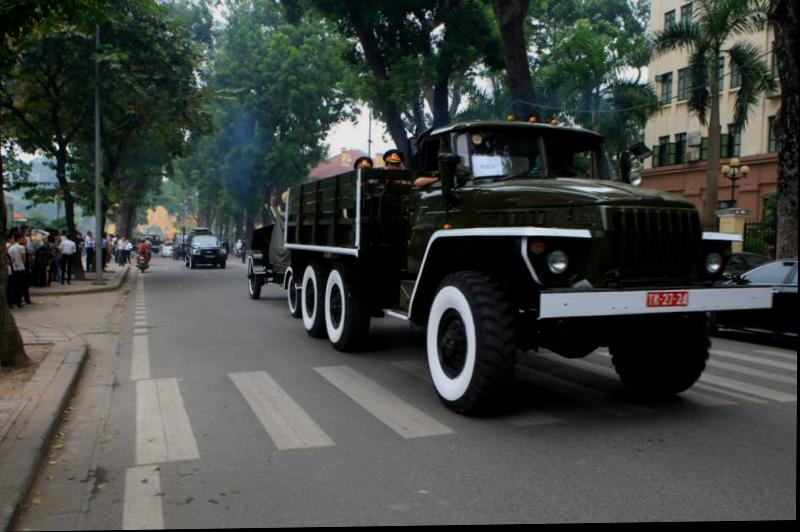License_Plate: (646, 288, 692, 311)
